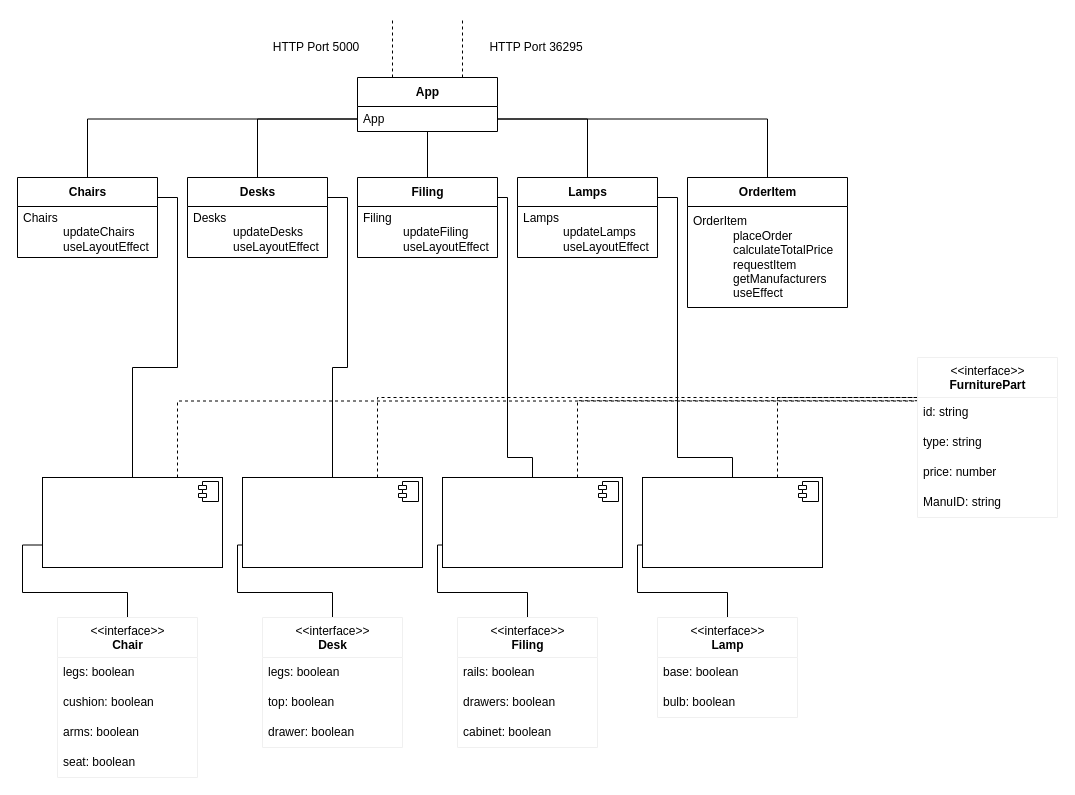
Image size: 1075x795. Some labels were removed from this diagram. The centre of each missing label's shape, as x and y in pixels:
ChairComponent required interfaces ContainerProps chair: Chair: (x=132, y=522)
DeskComponent required interfaces ContainerProps desk: Desk: (x=332, y=522)
FilingComponent required interfaces ContainerProps filing: Filing: (x=532, y=522)
LampComponent required interfaces ContainerProps lamp: Lamp: (x=732, y=522)
